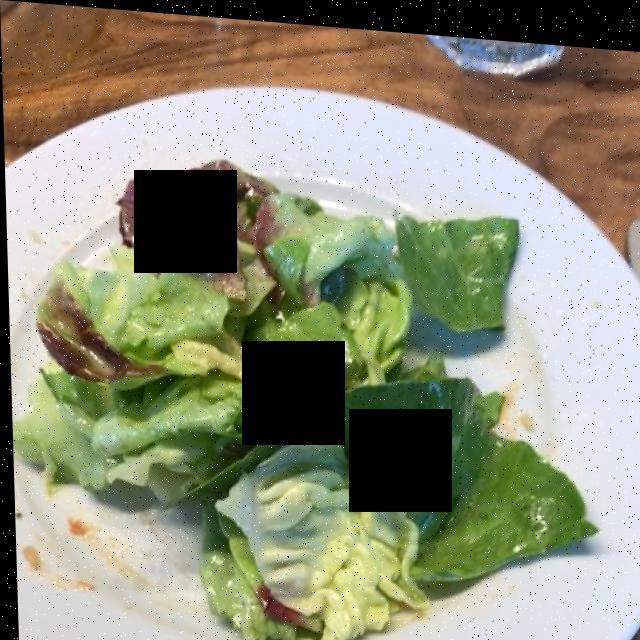salad: (30, 166, 580, 631), (61, 226, 225, 401)
